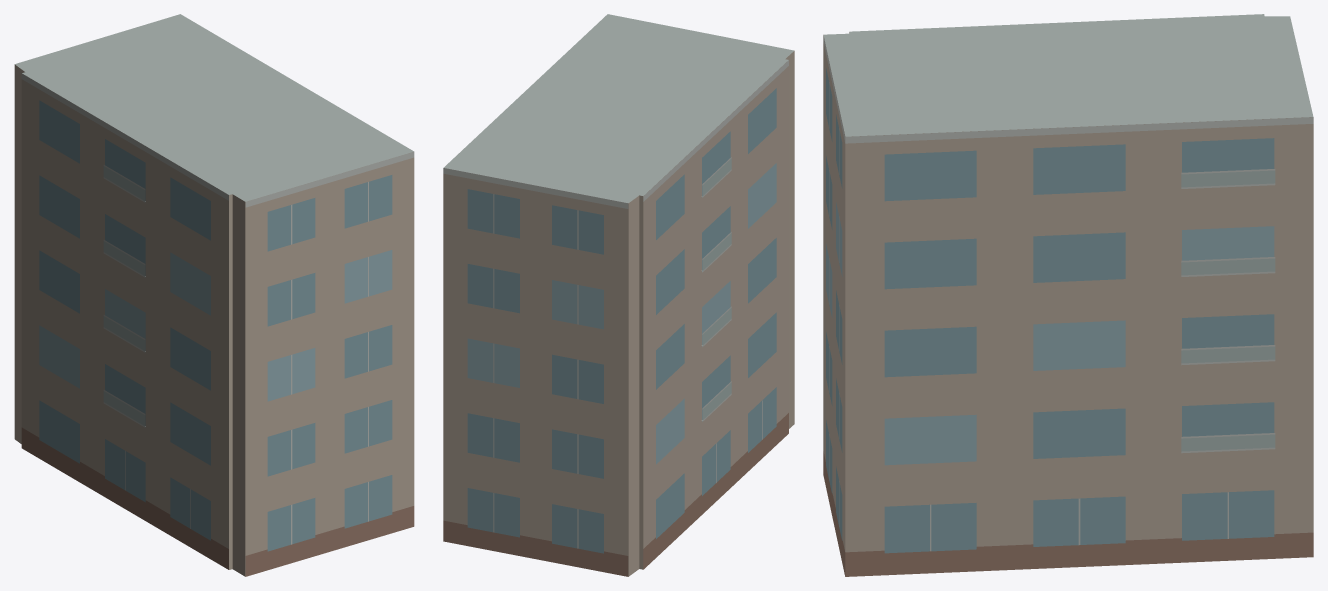
The model's file is survey-upis-32884533.glb.
3 renders of one model, left to right at view 1: azimuth 30°, elevation 25°; view 2: azimuth 150°, elevation 25°; view 3: azimuth 270°, elevation 25°, orthographic. The views are drawn at different scales.
Parts seen in each view (by area): view 1: survey-upis-32884533.tmp; view 2: survey-upis-32884533.tmp; view 3: survey-upis-32884533.tmp.
Boxes of the visible parts, x1,y1,x2,y2 form: survey-upis-32884533.tmp: (14,14,414,576); survey-upis-32884533.tmp: (443,14,794,576); survey-upis-32884533.tmp: (823,14,1313,576).
Bounding box in the file's own units: 9.34 × 15.6 × 15.75.
